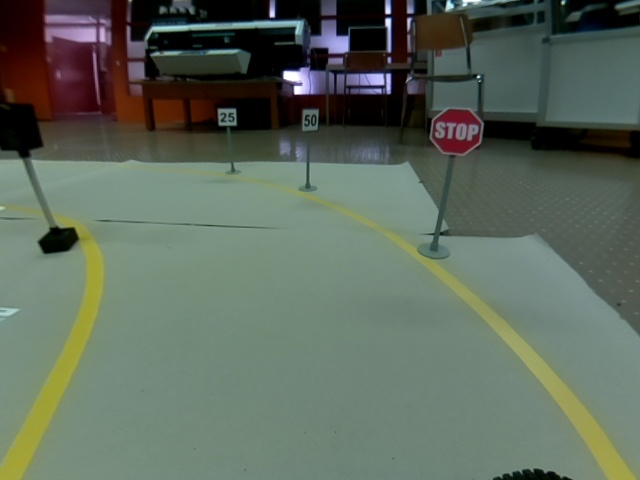speed25: (218, 108, 237, 126)
speed50: (301, 108, 319, 133)
stop: (429, 107, 484, 156)
trafficLightOff: (1, 101, 45, 151)
